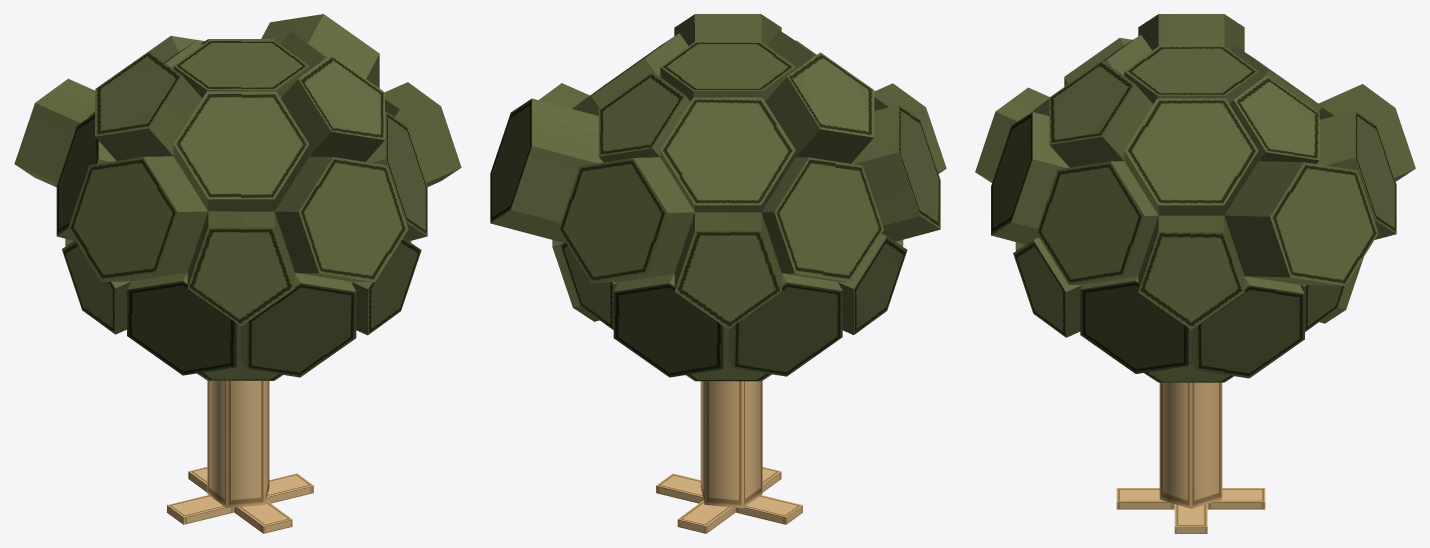
Rendered from Tree022.FBX.
The picture shows the model from 3 angles, left to right: view 1: azimuth 30°, elevation 25°; view 2: azimuth 150°, elevation 25°; view 3: azimuth 270°, elevation 25°; orthographic projection.
Parts seen in each view (by area): view 1: tree022; view 2: tree022; view 3: tree022.
Part boxes in pixels (left/top/right/bottom): tree022: left=14, top=14, right=461, bottom=533; tree022: left=490, top=14, right=946, bottom=533; tree022: left=975, top=14, right=1415, bottom=533.
Bounding box in the file's own units: 264 × 302 × 267.
Materials: 1 (1 with a texture image).
